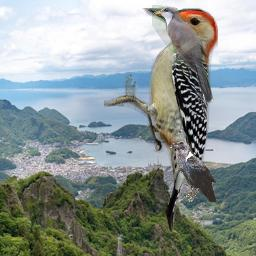Crow: (170, 140, 217, 202)
Cuckoo: (152, 5, 215, 105)
Woodpecker: (104, 8, 218, 232)
